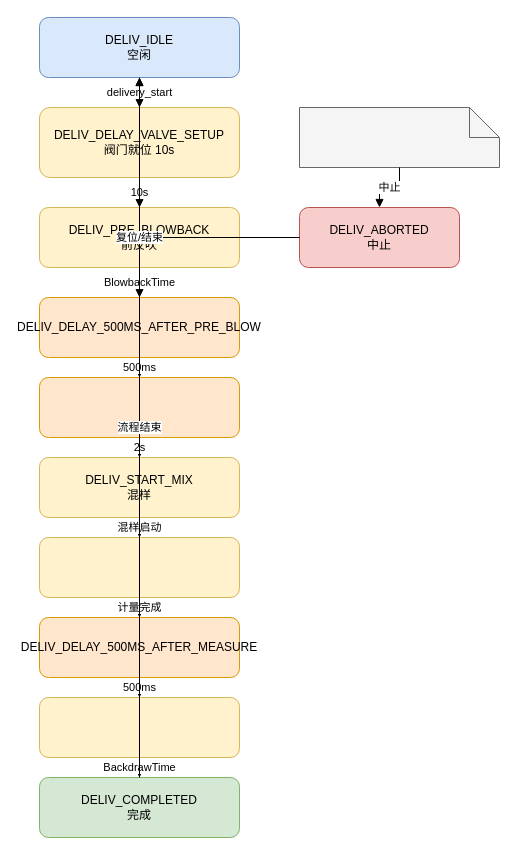
This 517x855 diagram has some shape labels left out. The shapes that lost their labels are listed below. From the top down, each one's box as (x1, y1, x2, y2) in pixels, then its label:
(298, 106, 500, 168): 任意阶段中止
(38, 376, 240, 438): DELIV_STABILIZE 稳定 2s
(38, 536, 240, 598): DELIV_MEASURE 计量送样
(38, 696, 240, 758): DELIV_BACKDRAW 回抽
